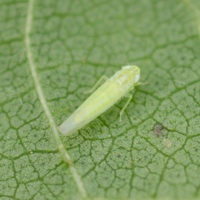insect: (59, 65, 139, 134)
